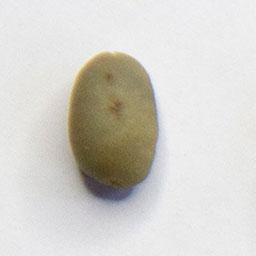peaberry: (64, 46, 162, 192)
